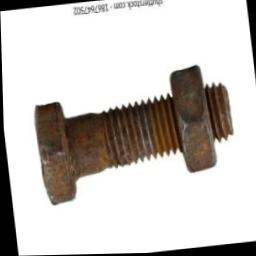Corroded-Nut-and-Bolt: (33, 64, 233, 204)
